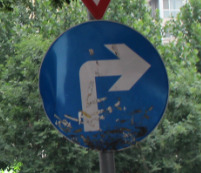right_turn: (39, 19, 169, 150)
